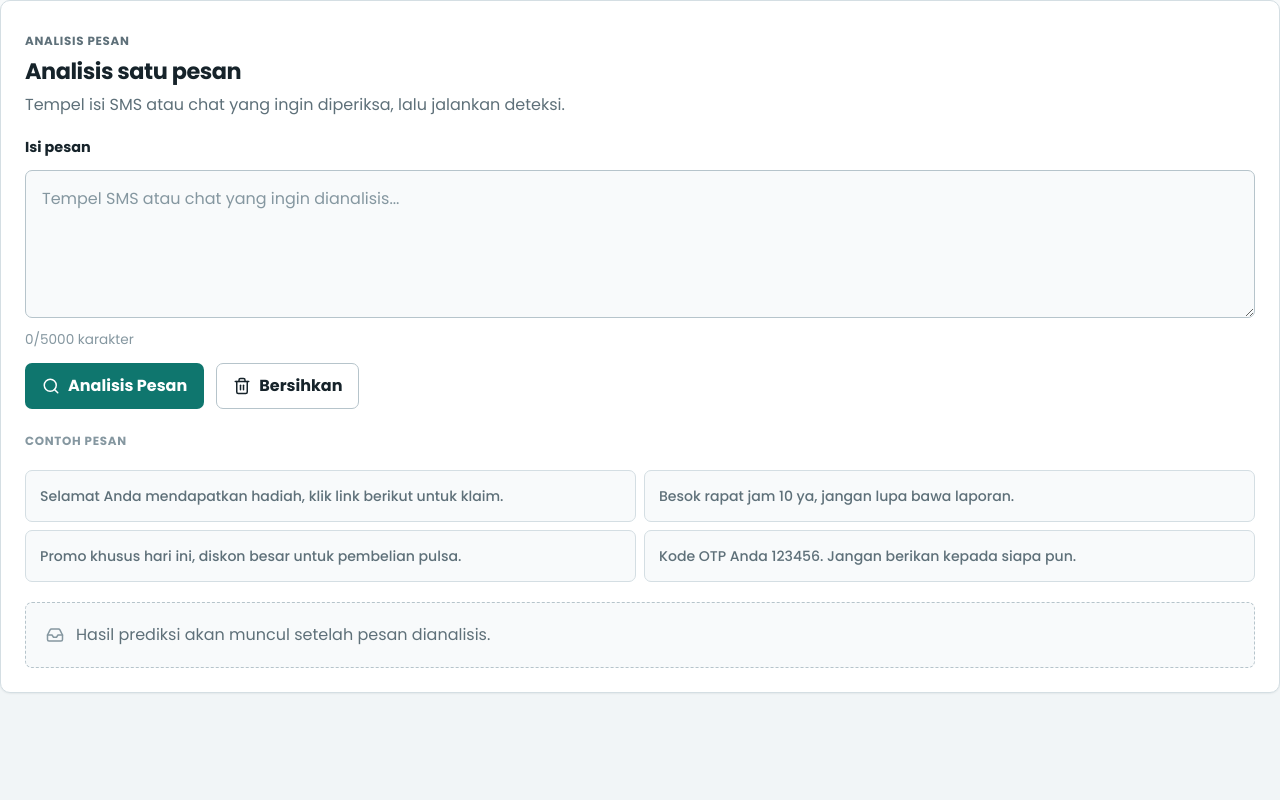
Test case: MessageAnalyzer › shows API error
Type "halo" into the text box labelled "Isi pesan" at (640,244), box [25,170,1255,318]
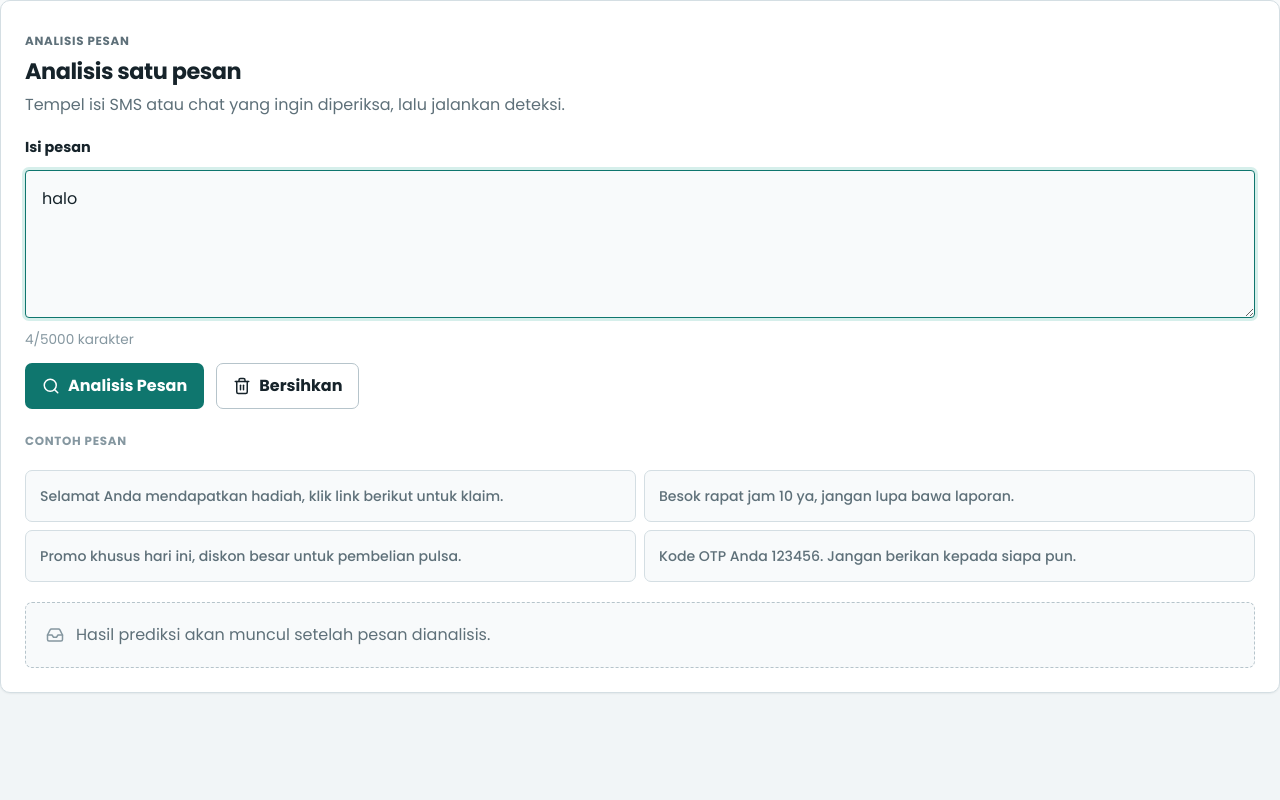
Click the button "Analisis Pesan" at (115,386), box [25,362,204,408]
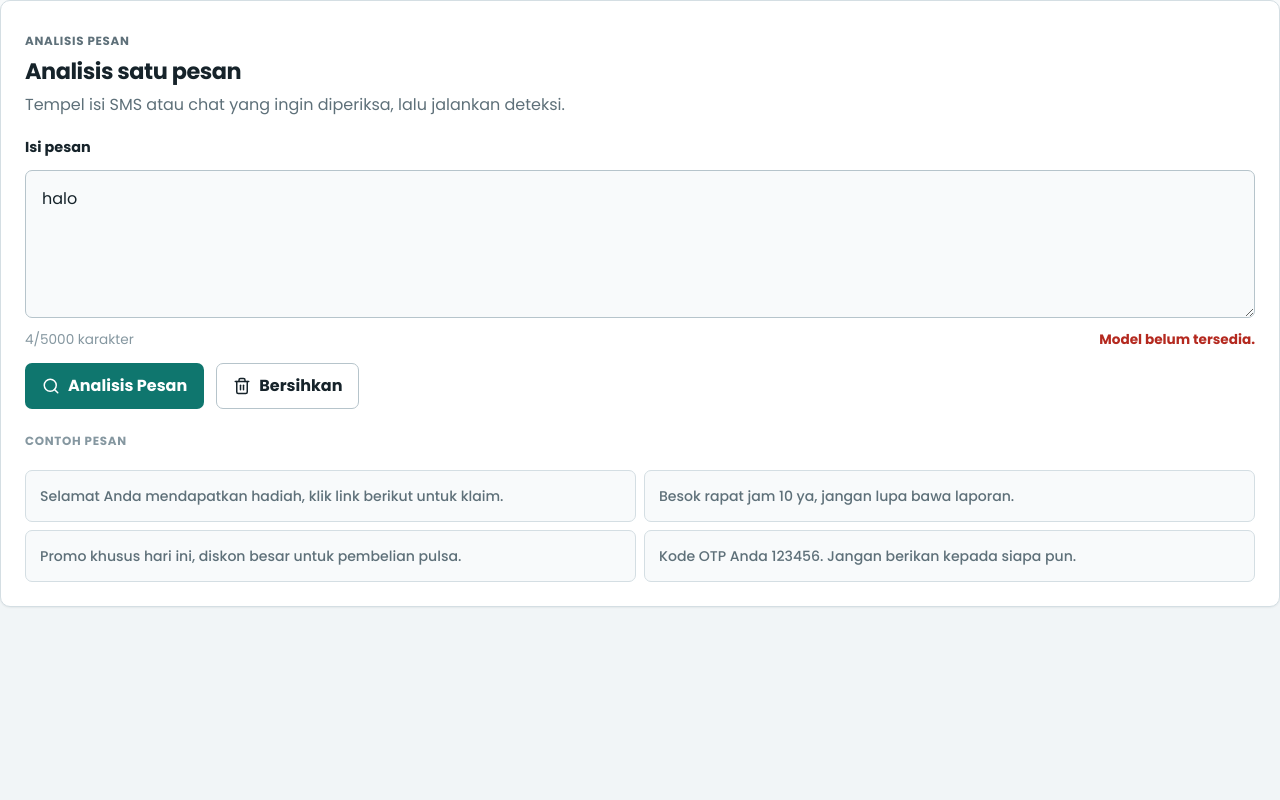
Result: the message reads "Model belum tersedia." at [1099,330,1255,349]
